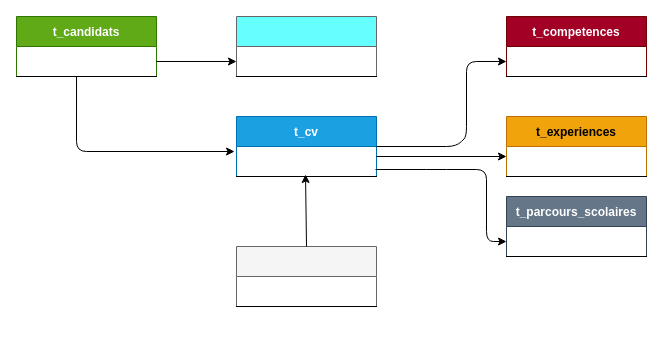
The diagram is 663 pixels wide and 353 high, and some of its shapes have lost their labels. Here are the shapes that lost their labels. From the top down, the box of each, then its label:
(236, 16, 376, 76): t_acces
(236, 246, 376, 306): t_specialites
